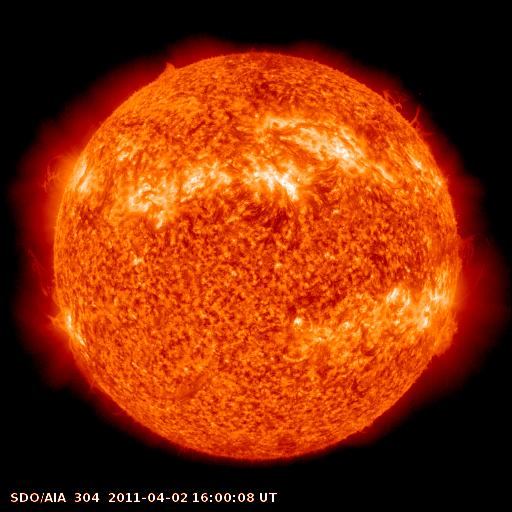prominence: (376, 76, 443, 146), (14, 240, 72, 307), (58, 348, 117, 402), (426, 310, 469, 365), (450, 222, 484, 281), (145, 48, 185, 86)
